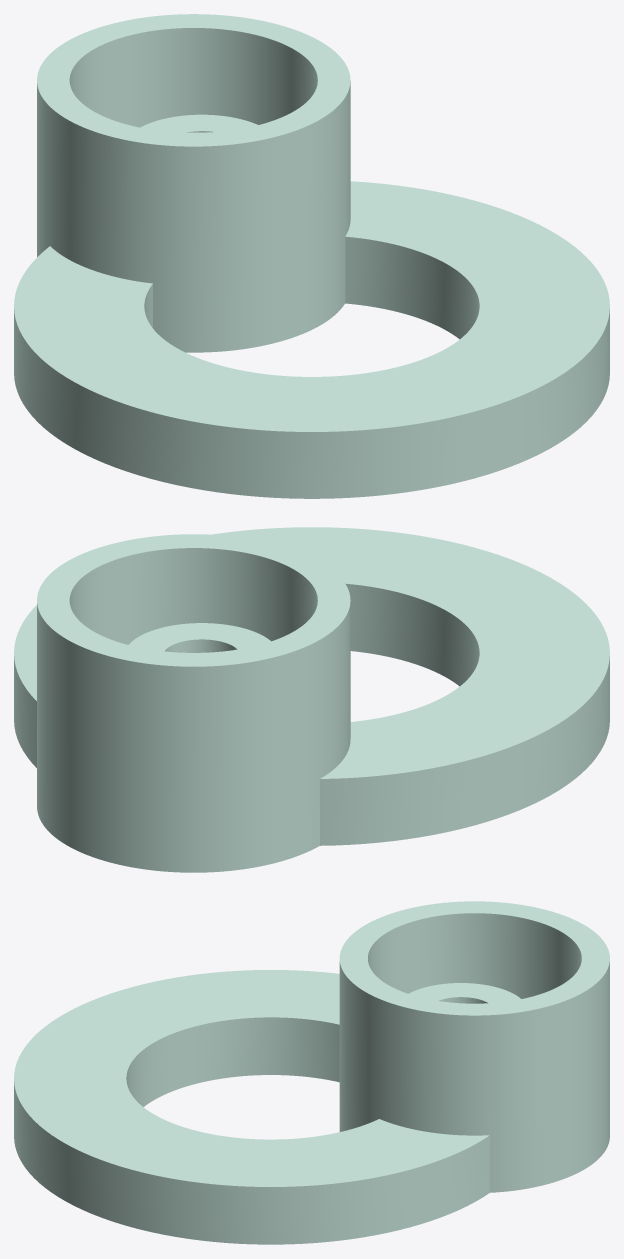
3 renders of one model, top to bottom at view 1: azimuth 30°, elevation 25°; view 2: azimuth 150°, elevation 25°; view 3: azimuth 270°, elevation 25°, orthographic. The views are drawn at different scales.
Parts seen in each view (by area): view 1: Renderer Node; view 2: Renderer Node; view 3: Renderer Node.
Part boxes in pixels (x1=…): Renderer Node: x1=14, y1=14, x2=609, y2=498; Renderer Node: x1=14, y1=527, x2=609, y2=872; Renderer Node: x1=14, y1=901, x2=609, y2=1244.
Size of the model in its own units: 1.52 by 0.5781 by 1.76.
